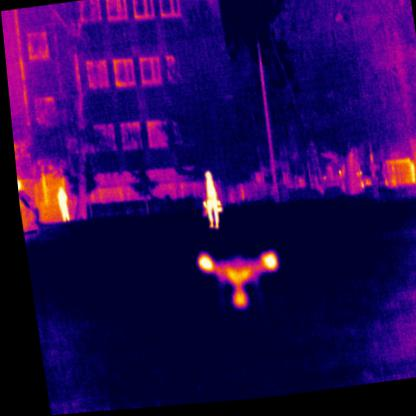drone: (188, 243, 278, 319)
human: (194, 172, 218, 231), (50, 186, 64, 221)
